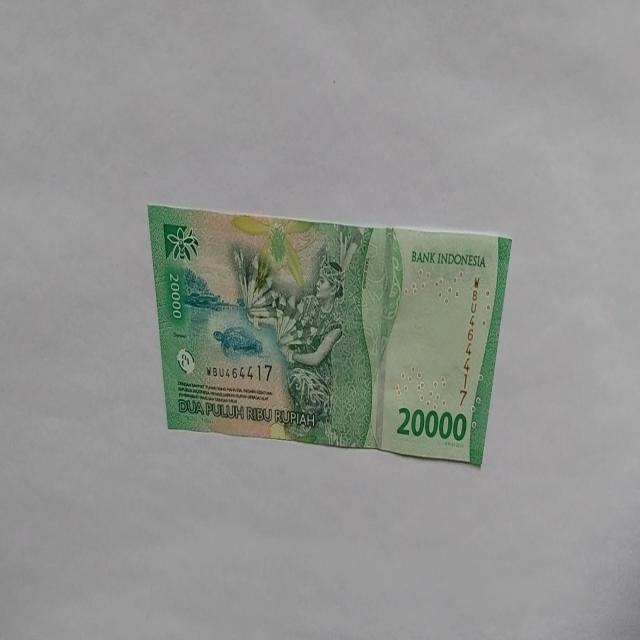dua puluh ribu rupiah: (147, 202, 512, 468)
